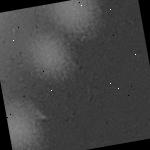colony: (18, 25, 85, 91), (3, 90, 59, 150), (42, 0, 117, 44)
